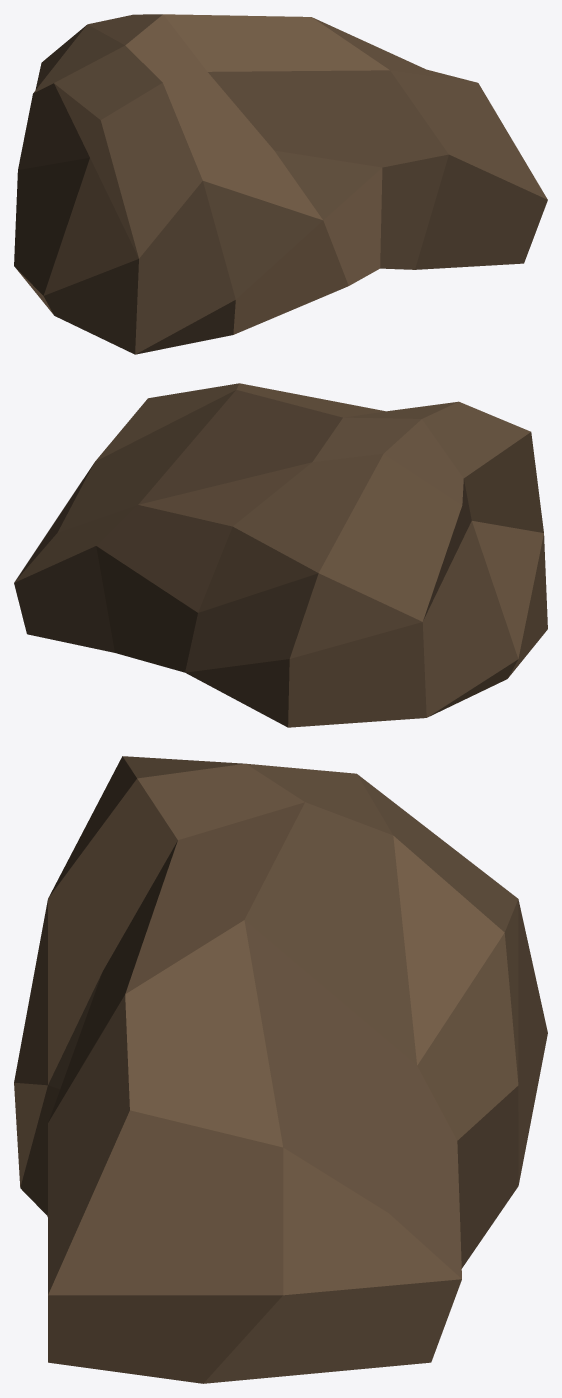
File: Stone_2_Brown.fbx
3 views of the same model, one above another, from view 1: azimuth 30°, elevation 25°; view 2: azimuth 150°, elevation 25°; view 3: azimuth 270°, elevation 25° (orthographic). The views are drawn at different scales.
Parts seen in each view (by area): view 1: Stone_2_Brown_Part_1, Stone_2_Brown_Part_2; view 2: Stone_2_Brown_Part_1, Stone_2_Brown_Part_2; view 3: Stone_2_Brown_Part_2, Stone_2_Brown_Part_1.
Part boxes in pixels (box(x1,y1,x2,y2)): Stone_2_Brown_Part_1: box(14, 14, 547, 354); Stone_2_Brown_Part_2: box(16, 14, 476, 354); Stone_2_Brown_Part_1: box(14, 390, 530, 717); Stone_2_Brown_Part_2: box(15, 383, 547, 727); Stone_2_Brown_Part_2: box(14, 763, 518, 1383); Stone_2_Brown_Part_1: box(14, 756, 547, 1294).
Bounding box in the file's own units: 187 × 99.45 × 131.
